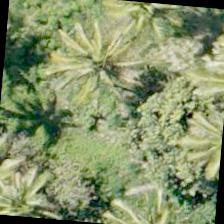Kelapa_Sawit: (48, 11, 146, 110), (0, 160, 84, 222), (170, 93, 223, 188)
